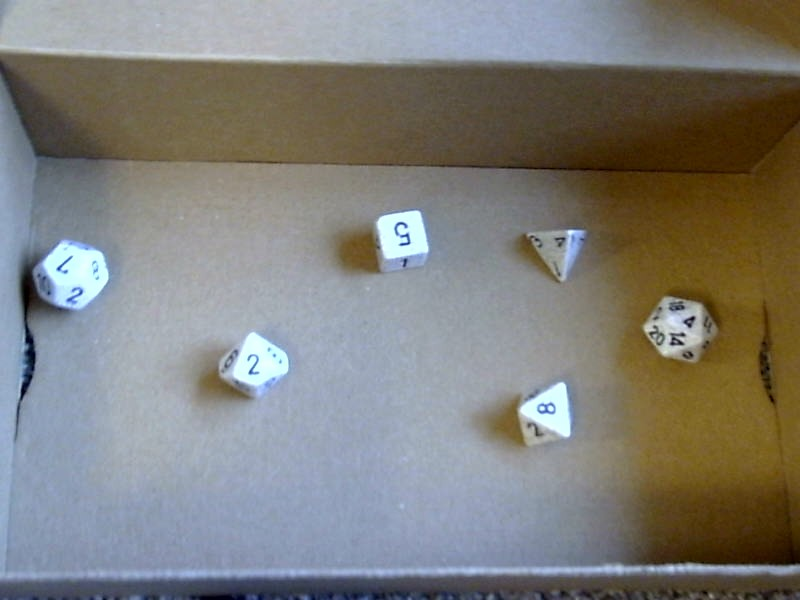d10 2: (210, 328, 298, 401)
d12 7: (26, 228, 116, 322)
d20 4: (639, 289, 722, 368)
d4 4: (524, 226, 594, 286)
d6 5: (367, 206, 433, 276)
d8 8: (513, 376, 576, 455)
